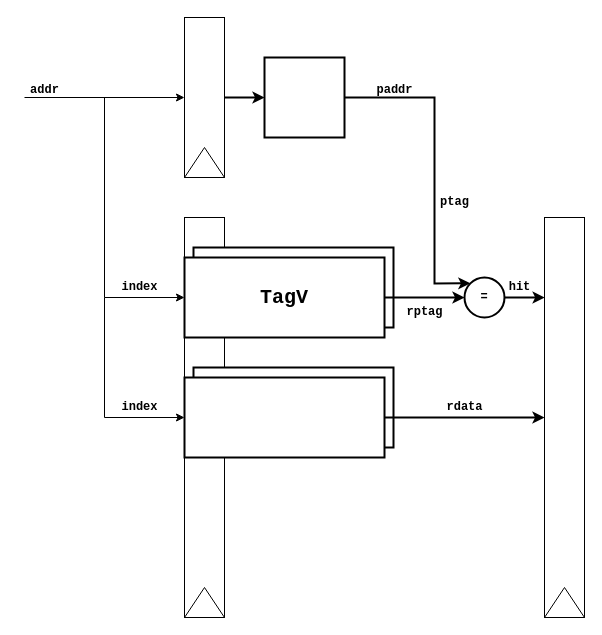
The diagram is 602 pixels wide and 635 high, and some of its shapes have lost their labels. Each missing label, with the centre of its shape:
Data: the point at 284,417
MMU: the point at 304,97
